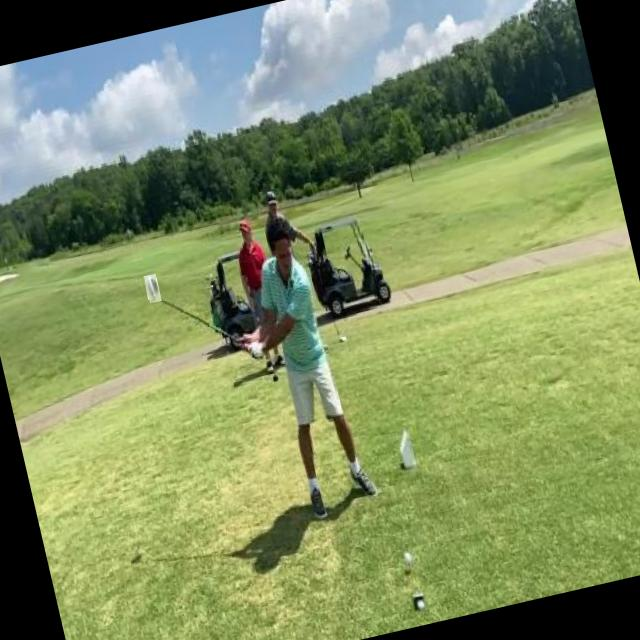club head: (144, 273, 162, 303)
